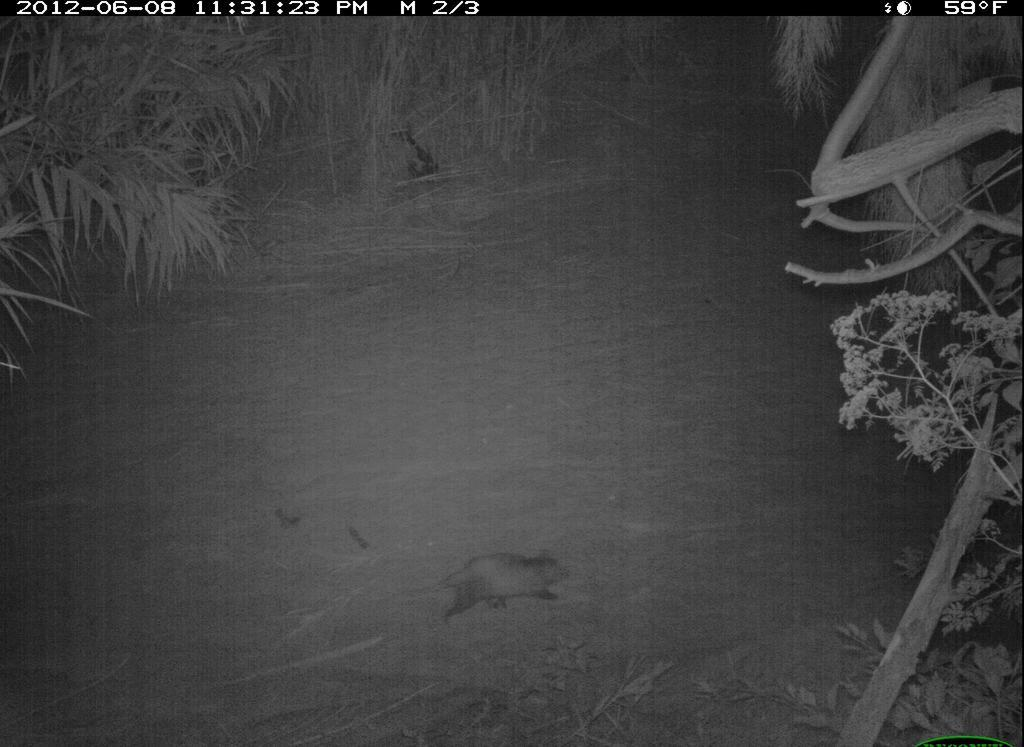opossum: (415, 543, 577, 624)
